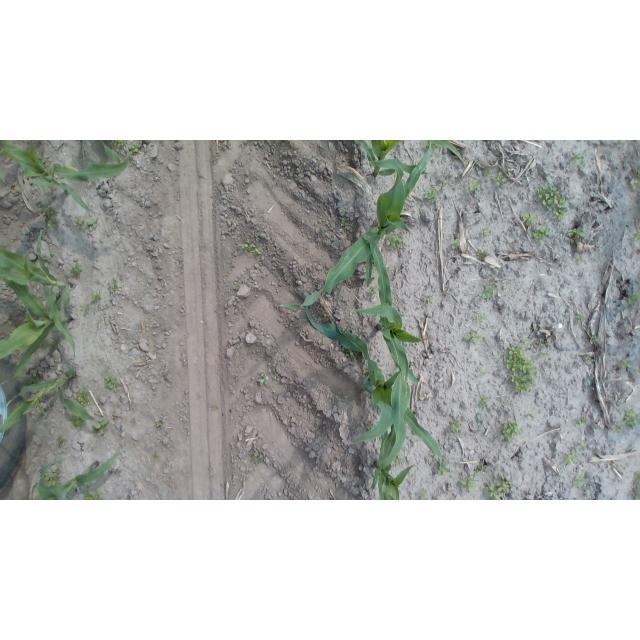Maize: (276, 141, 465, 311), (305, 305, 444, 464), (349, 233, 424, 395), (0, 229, 76, 368), (1, 140, 132, 213), (1, 264, 74, 385), (2, 370, 110, 439), (38, 446, 123, 500), (369, 410, 415, 500), (354, 142, 405, 179)
Weeds: (504, 339, 533, 393), (534, 184, 570, 221), (109, 141, 143, 158), (486, 480, 514, 500), (499, 421, 519, 448), (38, 206, 60, 228), (237, 240, 261, 257), (71, 216, 100, 230), (90, 418, 110, 435), (463, 330, 482, 346), (532, 227, 552, 242), (64, 263, 82, 278), (461, 478, 478, 493), (479, 285, 497, 299), (43, 473, 62, 486), (568, 228, 584, 243), (624, 410, 639, 426), (104, 375, 118, 392), (570, 152, 586, 166), (255, 370, 268, 387), (385, 234, 403, 246), (422, 189, 437, 203), (475, 396, 490, 410), (629, 170, 639, 191), (522, 210, 535, 226), (79, 388, 90, 406), (83, 489, 101, 500), (249, 449, 263, 463), (71, 417, 85, 431), (449, 419, 460, 435), (564, 454, 577, 467), (608, 423, 623, 434), (634, 473, 640, 500), (437, 463, 449, 476), (574, 475, 585, 489), (496, 172, 507, 186), (628, 293, 640, 305), (266, 369, 277, 382), (89, 291, 100, 304), (576, 440, 587, 452), (106, 281, 118, 292), (476, 314, 489, 324), (585, 355, 598, 365), (469, 182, 480, 193), (477, 249, 488, 259), (81, 303, 90, 315), (452, 239, 461, 250), (577, 419, 588, 428), (622, 359, 631, 369), (481, 229, 492, 237), (612, 140, 626, 146), (576, 313, 585, 322), (40, 157, 48, 166), (427, 296, 435, 304), (423, 492, 430, 501), (57, 439, 66, 446), (590, 335, 596, 345), (156, 421, 163, 428), (370, 289, 377, 296), (340, 218, 346, 226), (152, 455, 159, 461)
